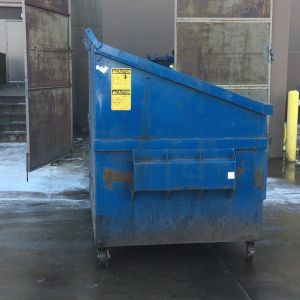Dumpster: (80, 26, 277, 269)
